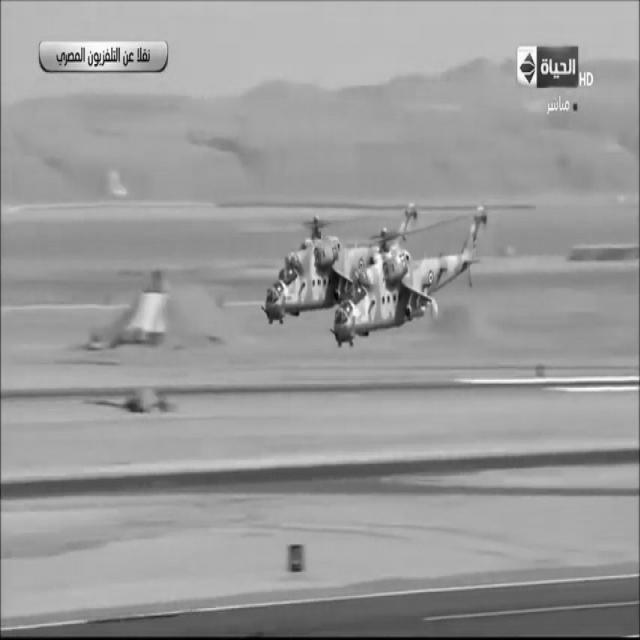helikopter: (253, 201, 507, 367)
